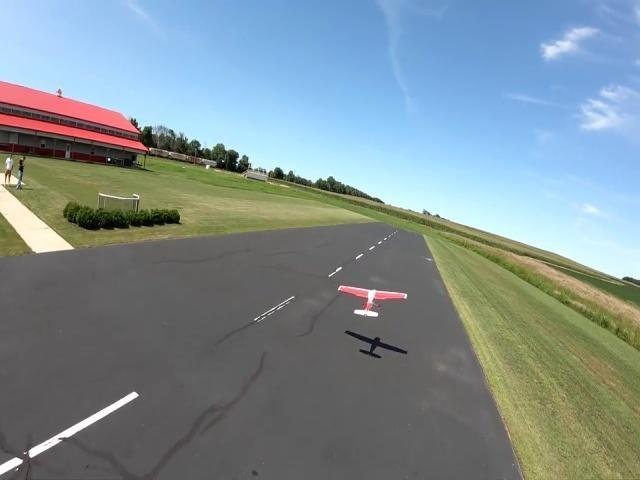Airplane: (338, 285, 407, 317)
